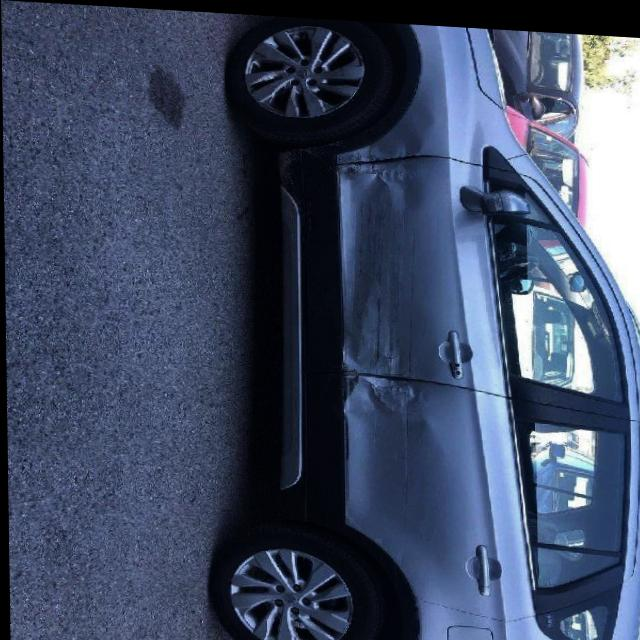porte-avant: (297, 143, 637, 414)
